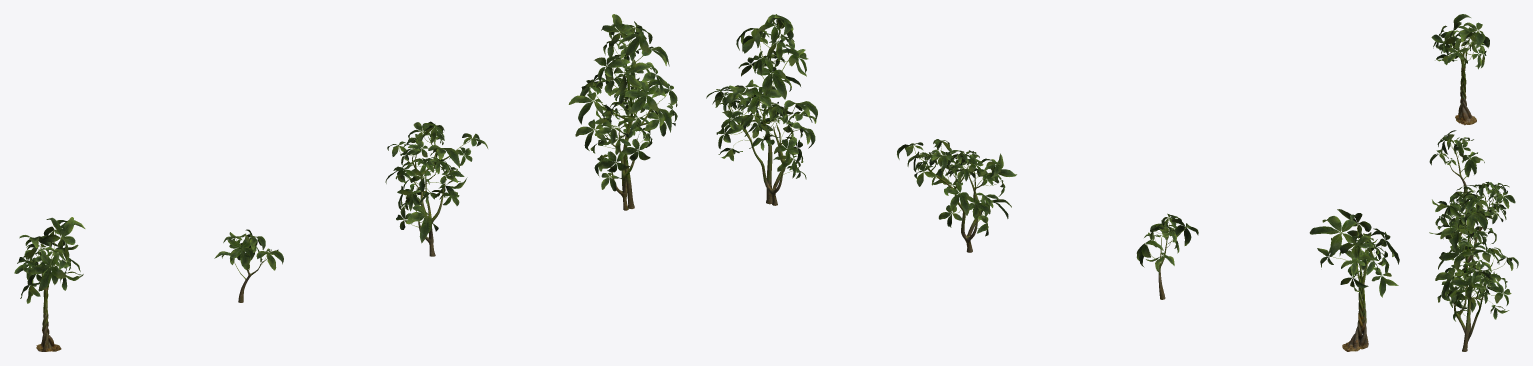
The model's file is pachira_aquatica_01.glb.
The picture shows the model from 3 angles, left to right: view 1: azimuth 30°, elevation 25°; view 2: azimuth 150°, elevation 25°; view 3: azimuth 270°, elevation 25°; orthographic projection. The views are drawn at different scales.
Visible parts, largest first — view 1: pachira_aquatica_01_leaves_a, pachira_aquatica_01_bark_a; view 2: pachira_aquatica_01_leaves_a, pachira_aquatica_01_bark_a; view 3: pachira_aquatica_01_leaves_a, pachira_aquatica_01_bark_a.
Part boxes in pixels (x1,y1,x2,y2): pachira_aquatica_01_leaves_a: [14, 14, 677, 303]; pachira_aquatica_01_bark_a: [36, 44, 652, 351]; pachira_aquatica_01_leaves_a: [706, 14, 1399, 297]; pachira_aquatica_01_bark_a: [728, 44, 1368, 351]; pachira_aquatica_01_leaves_a: [1429, 14, 1518, 321]; pachira_aquatica_01_bark_a: [1447, 50, 1497, 351].
Size of the model in its own units: 6.87 by 1.9 by 0.997.
2 materials, 2 textured.
